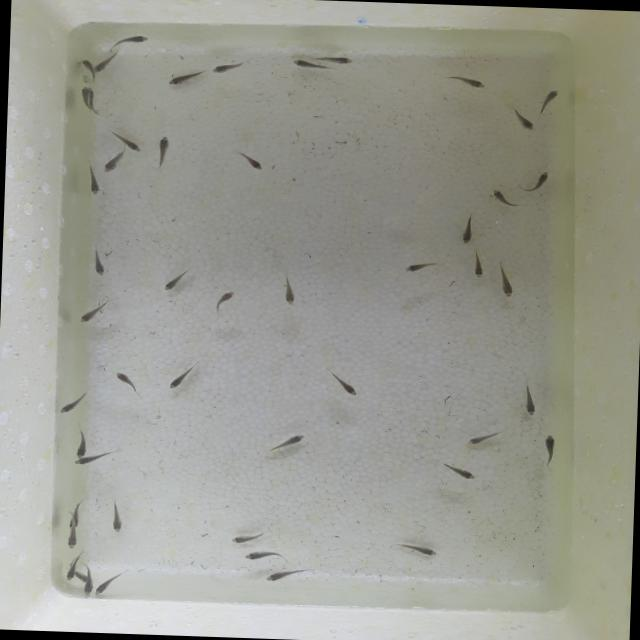fingerling: (262, 429, 312, 454), (102, 124, 144, 152), (316, 368, 360, 394), (162, 66, 206, 90), (434, 457, 476, 480), (260, 564, 308, 584), (169, 360, 201, 390), (76, 296, 108, 326), (235, 144, 266, 174), (540, 433, 562, 473), (74, 448, 115, 469), (496, 258, 516, 301), (465, 427, 505, 447), (60, 386, 90, 412), (160, 268, 190, 294), (312, 49, 356, 66), (507, 106, 538, 130), (106, 502, 128, 535), (149, 134, 169, 170), (536, 88, 560, 116), (212, 287, 235, 316), (82, 161, 101, 196), (112, 372, 142, 394), (458, 212, 478, 245), (284, 59, 334, 72), (92, 572, 120, 594), (229, 529, 266, 545), (520, 384, 537, 417), (446, 75, 488, 88), (243, 548, 282, 562), (115, 32, 152, 46), (102, 152, 125, 174), (90, 53, 116, 72), (488, 188, 514, 207), (401, 542, 436, 556), (470, 252, 486, 282), (402, 260, 436, 274), (281, 277, 297, 305), (92, 246, 106, 278), (63, 556, 80, 582), (526, 171, 548, 191), (75, 86, 90, 112), (210, 62, 244, 72), (68, 502, 80, 530), (74, 432, 86, 458), (83, 565, 93, 595), (78, 58, 96, 72), (68, 524, 76, 551)
